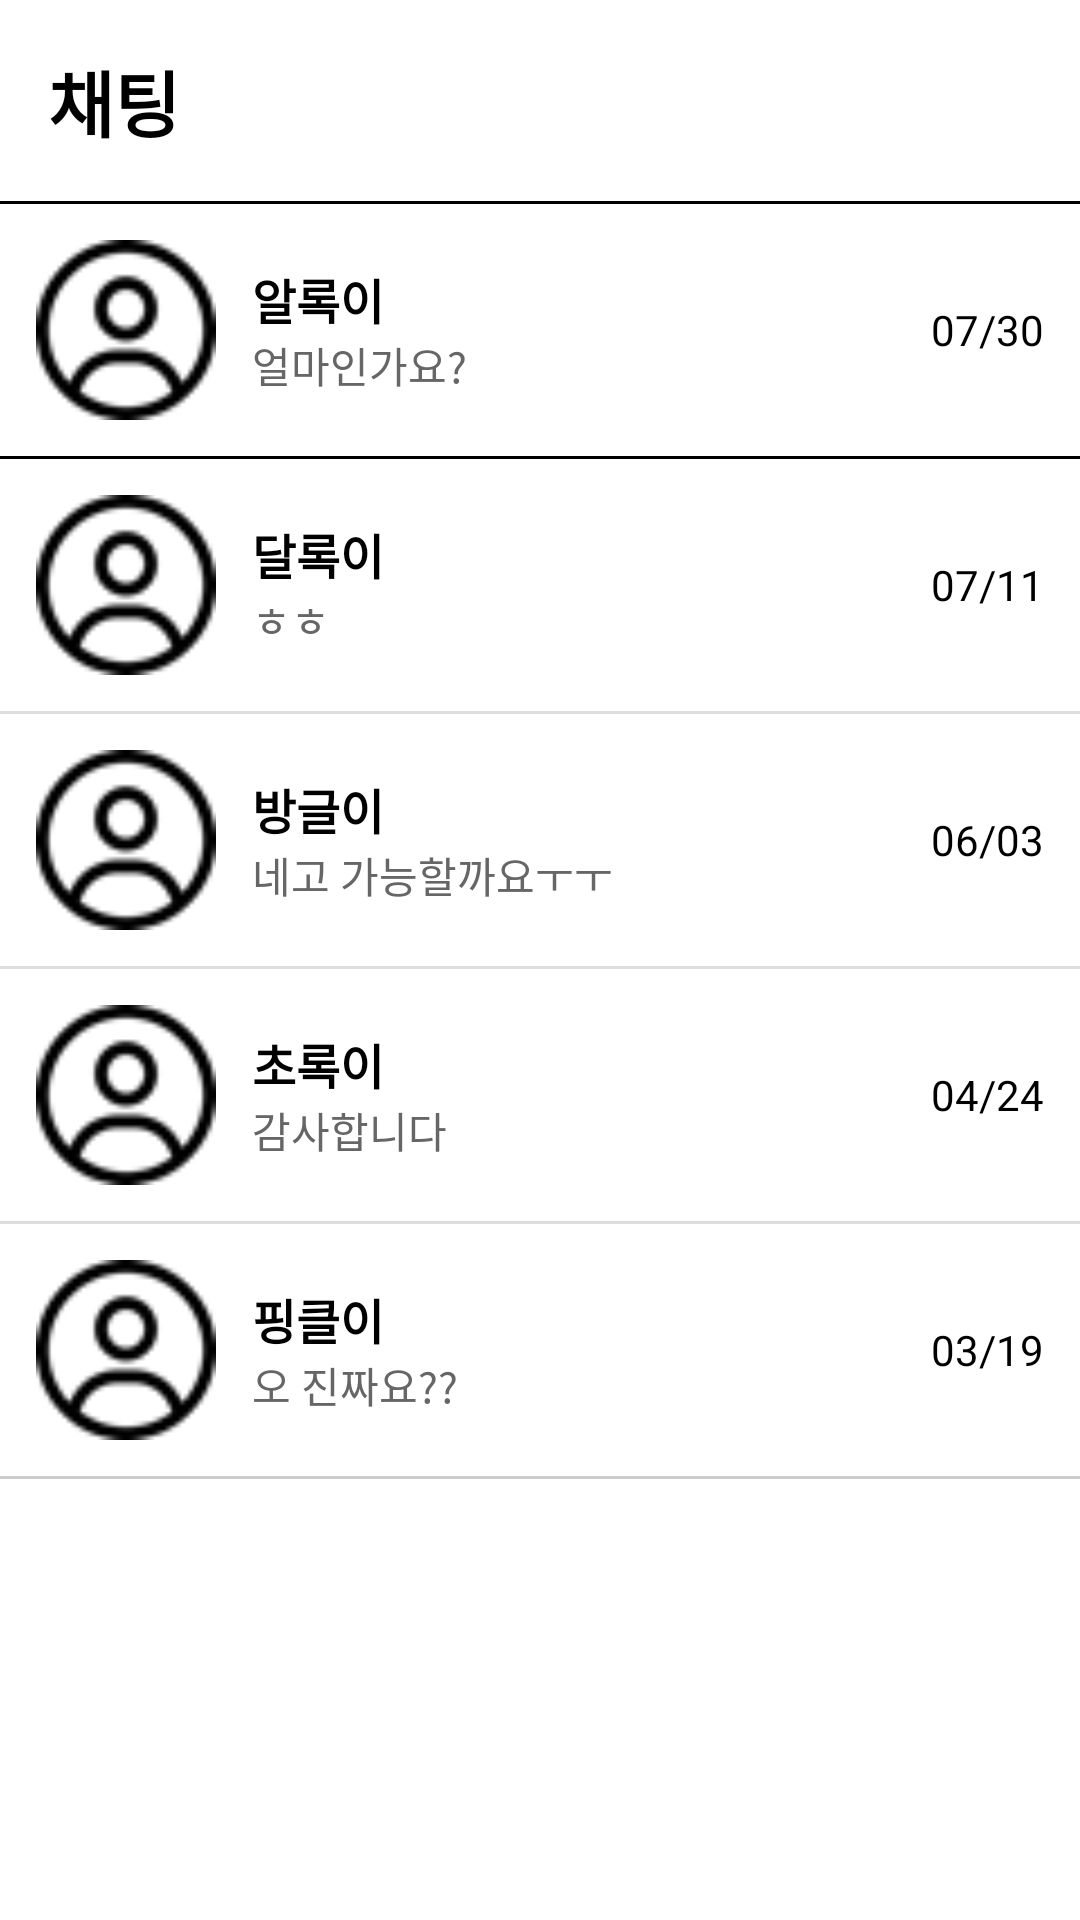

Icons on this 1080×1920 Android screen, each with its box as detection(x1, y1, x2, y2):
user infomation: detection(36, 240, 216, 420), detection(36, 495, 216, 675), detection(36, 750, 216, 930), detection(36, 1005, 216, 1185), detection(36, 1260, 216, 1440)
